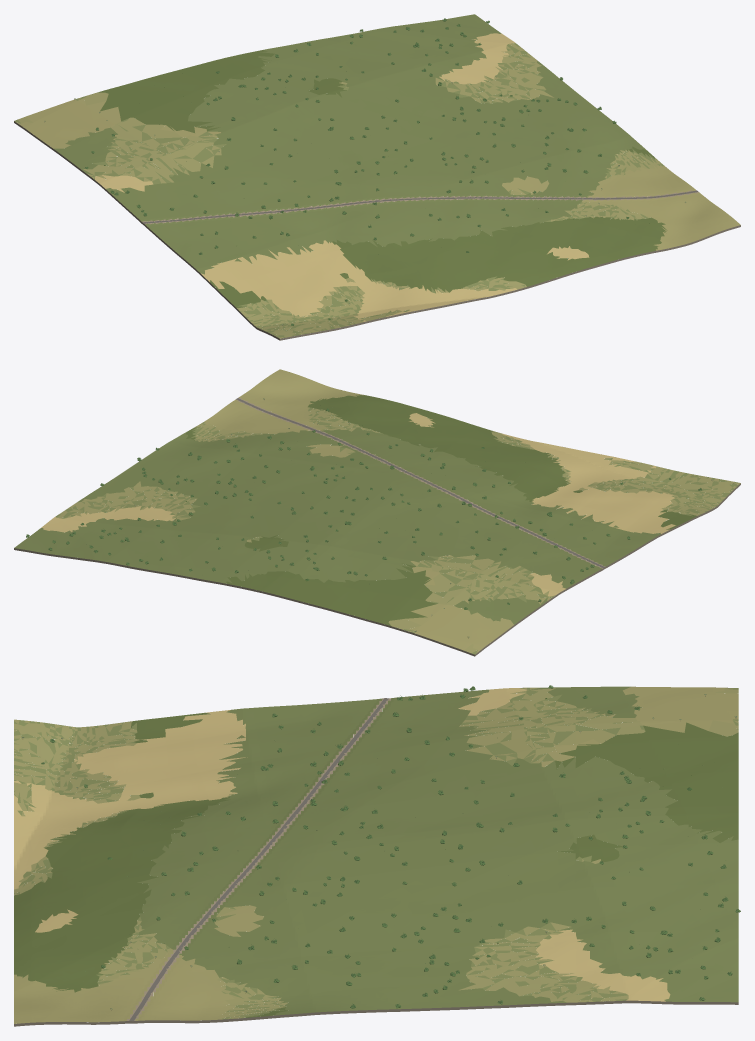
The model's file is parca_+3_-2-yakin.glb.
3 renders of one model, top to bottom at view 1: azimuth 30°, elevation 25°; view 2: azimuth 150°, elevation 25°; view 3: azimuth 270°, elevation 25°, orthographic. The views are drawn at different scales.
Parts seen in each view (by area): view 1: parca_+3_-2_arazi, parca_+3_-2_bitkiler, parca_+3_-2_yollar; view 2: parca_+3_-2_arazi, parca_+3_-2_bitkiler, parca_+3_-2_yollar; view 3: parca_+3_-2_arazi, parca_+3_-2_bitkiler, parca_+3_-2_yollar.
Boxes of the visible parts, x1,y1,x2,y2 form: parca_+3_-2_arazi: (14, 14, 740, 340); parca_+3_-2_bitkiler: (44, 18, 686, 331); parca_+3_-2_yollar: (143, 190, 698, 223); parca_+3_-2_arazi: (14, 369, 740, 656); parca_+3_-2_bitkiler: (26, 398, 712, 638); parca_+3_-2_yollar: (236, 398, 604, 567); parca_+3_-2_arazi: (14, 686, 738, 1026); parca_+3_-2_bitkiler: (22, 685, 740, 1010); parca_+3_-2_yollar: (129, 698, 388, 1021).
Bounding box in the file's own units: 1006 × 106 × 1003.
